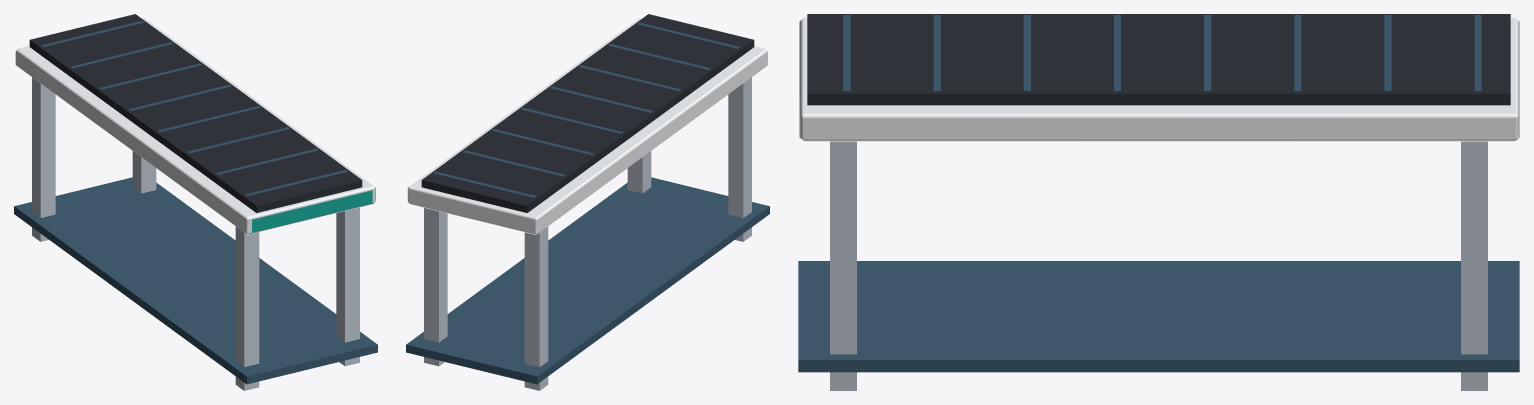
Rendered from CM_Interior_ConveyorBelt.fbx.
The picture shows the model from 3 angles, left to right: view 1: azimuth 30°, elevation 25°; view 2: azimuth 150°, elevation 25°; view 3: azimuth 270°, elevation 25°; orthographic projection. The views are drawn at different scales.
Visible parts, largest first — view 1: Body; view 2: Body; view 3: Body.
Part boxes in pixels (box(x1,y1,x2,y2)): Body: box(14, 14, 377, 390); Body: box(406, 14, 769, 390); Body: box(798, 14, 1519, 390).
Size of the model in its own units: 2.6 by 8 by 3.6.
Materials: 1 (1 with a texture image).
